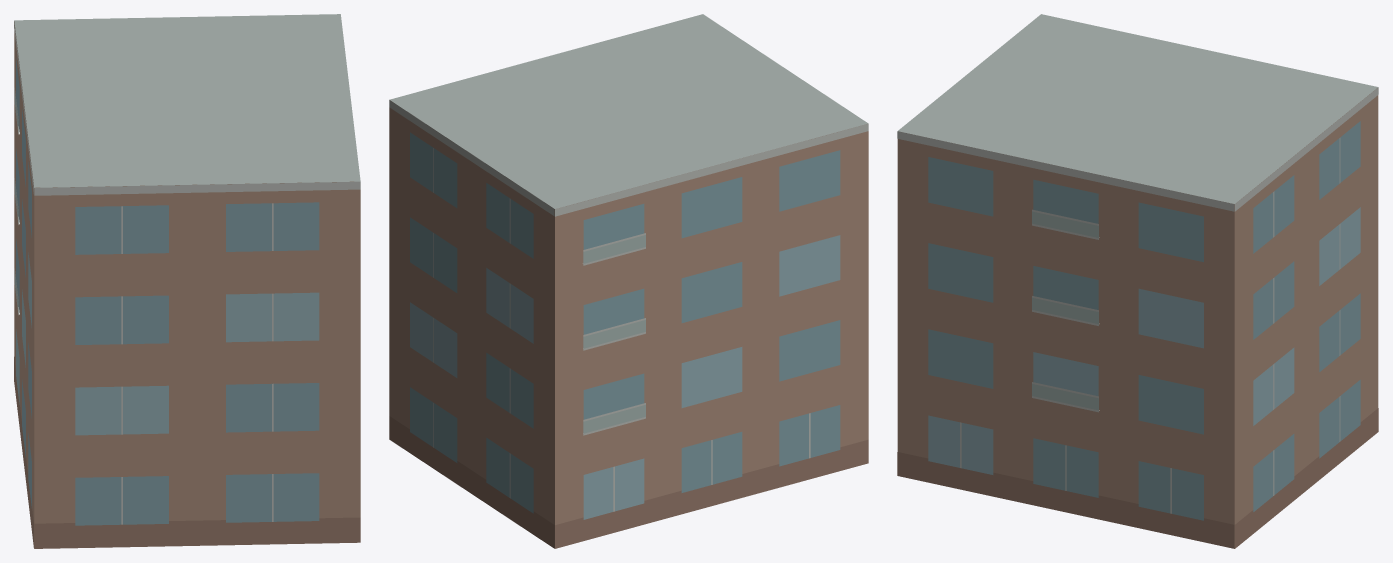
Rendered from survey-upis-32523764.glb.
The picture shows the model from 3 angles, left to right: view 1: azimuth 30°, elevation 25°; view 2: azimuth 150°, elevation 25°; view 3: azimuth 270°, elevation 25°; orthographic projection. The views are drawn at different scales.
Visible parts, largest first — view 1: survey-upis-32523764.tmp; view 2: survey-upis-32523764.tmp; view 3: survey-upis-32523764.tmp.
Part boxes in pixels (bbox=[...]): survey-upis-32523764.tmp: bbox=[14, 14, 360, 548]; survey-upis-32523764.tmp: bbox=[389, 14, 868, 548]; survey-upis-32523764.tmp: bbox=[897, 14, 1378, 548].
Bounding box in the file's own units: 13.02 × 11 × 13.92.
